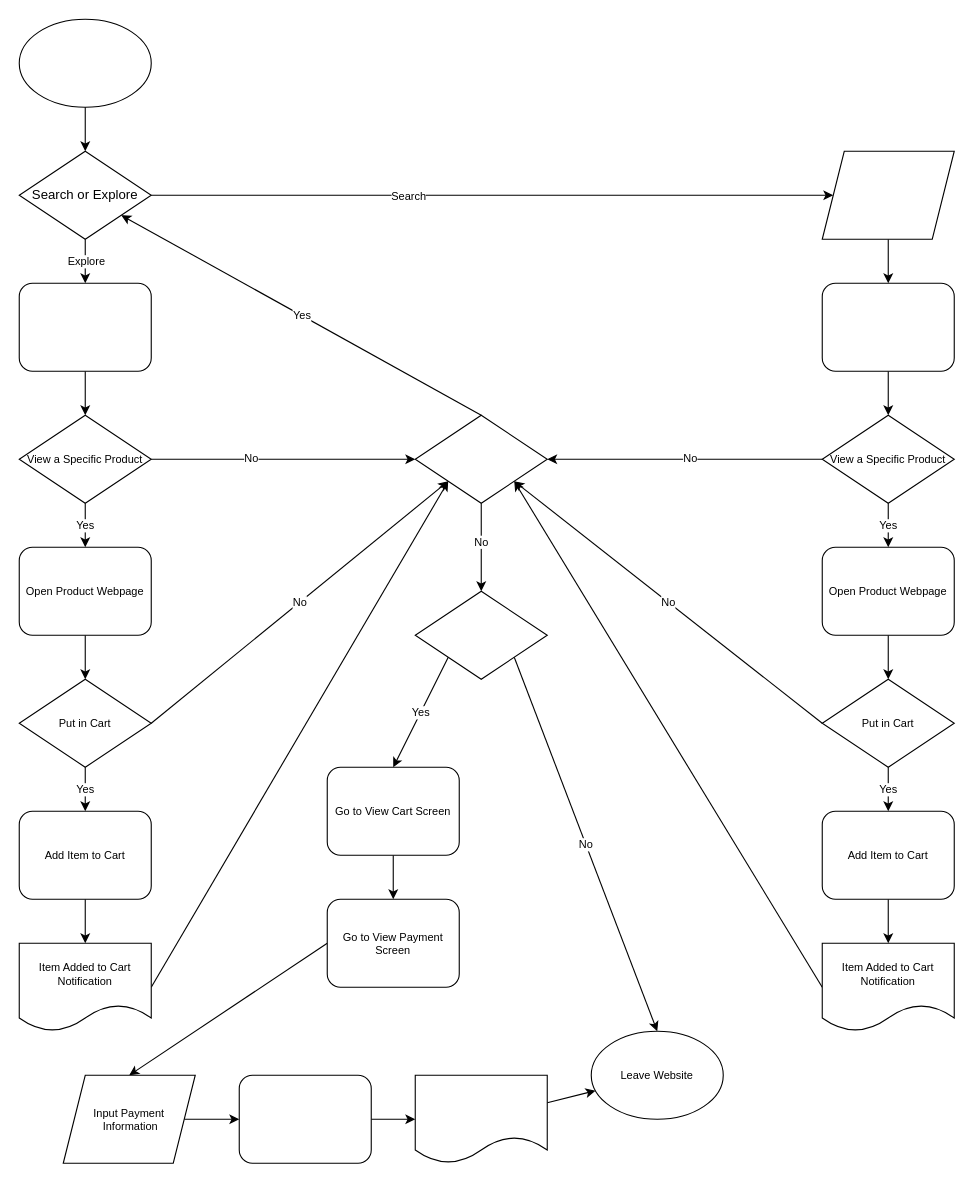
Some shapes in this 974 by 1183 pixel diagram are drawn without their labels. The shapes that lost their labels are listed below. From the top down, each one's box as (x1, y1, x2, y2) in pixels, then its label:
(18, 18, 151, 107): Enter the Website
(821, 150, 954, 239): Input Search
(18, 282, 151, 371): Explore Products on Home Page
(821, 282, 954, 371): Explore Products on From Search
(414, 414, 547, 503): Continue Shopping
(414, 590, 547, 679): Check Out
(238, 1074, 371, 1163): Order Confirmation Screen
(414, 1074, 547, 1163): Receive Email about Payment
